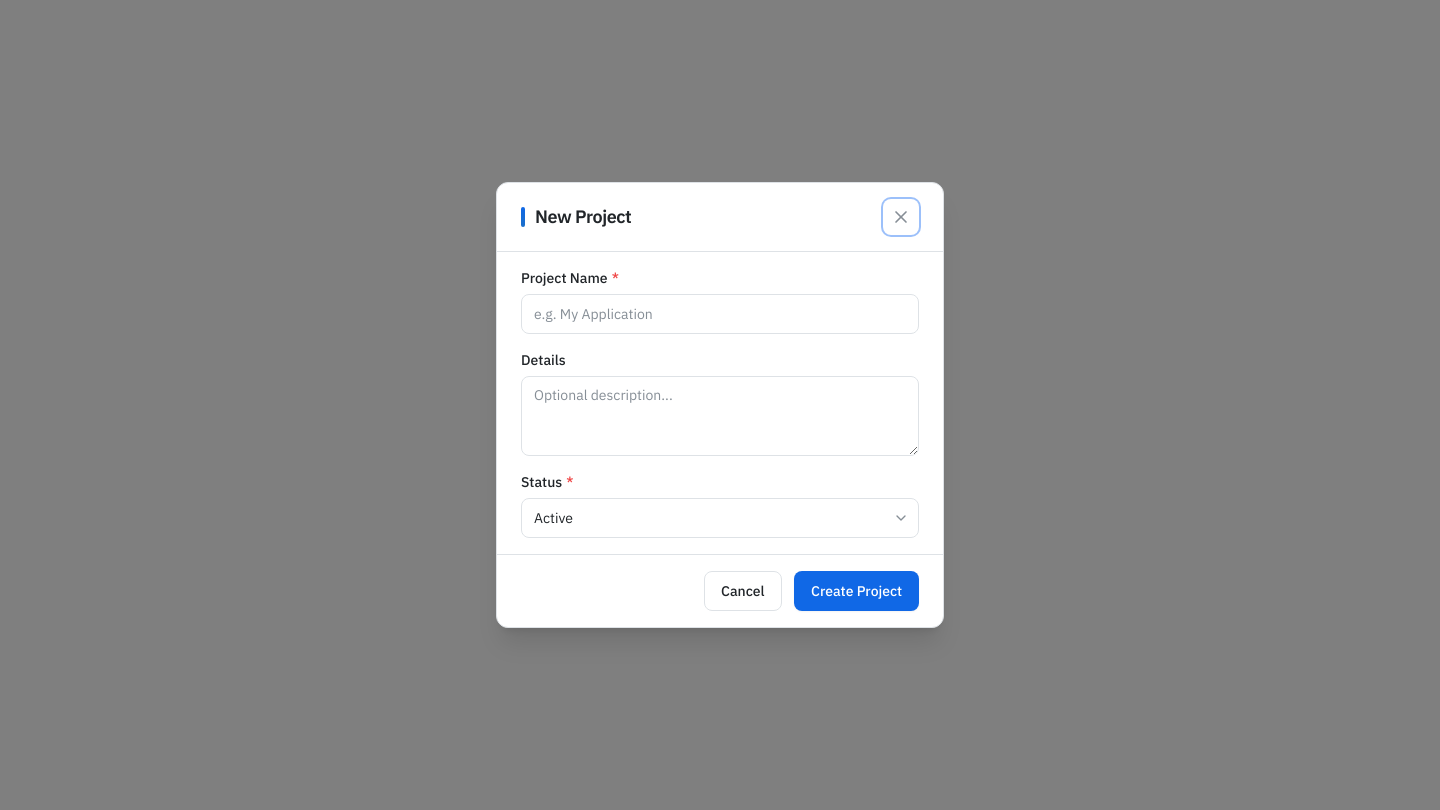
Test case: ProjectModal notifications › disables submission while the request is pending
Step 1. Type "Pending" into the field labelled "Project Name" → (720, 314), box x1=521 y1=294 x2=919 y2=334
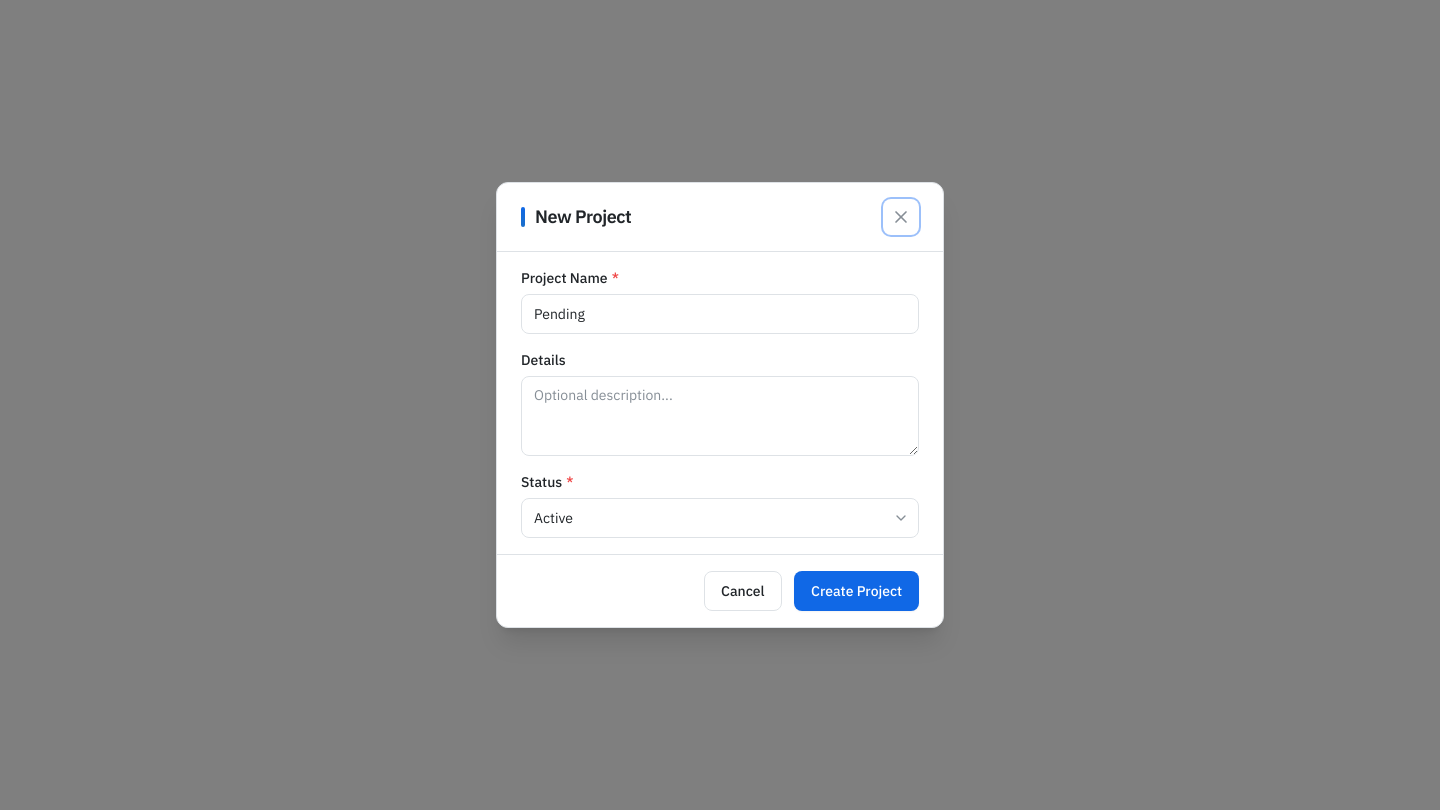
Step 2. Click the button "Create Project" → click(856, 591), box x1=794 y1=571 x2=919 y2=611
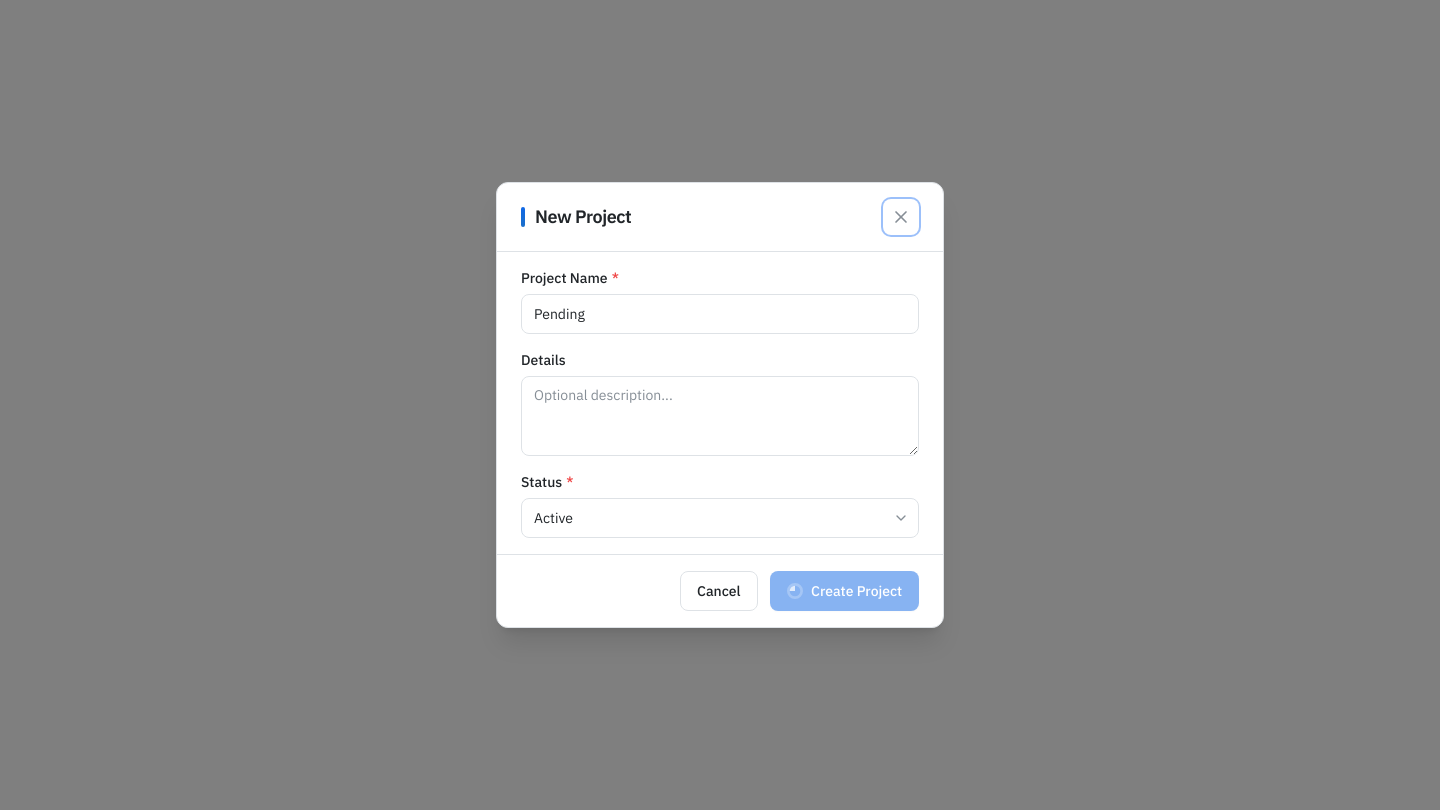
Check: the button "Create Project" is disabled, box x1=770 y1=571 x2=919 y2=611
